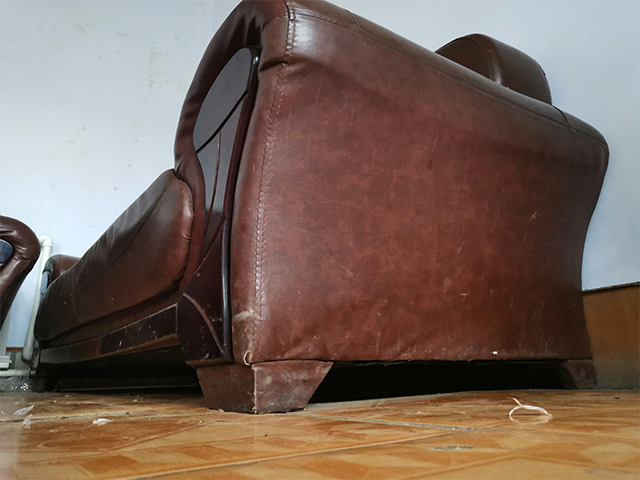sofa: (25, 1, 611, 417)
